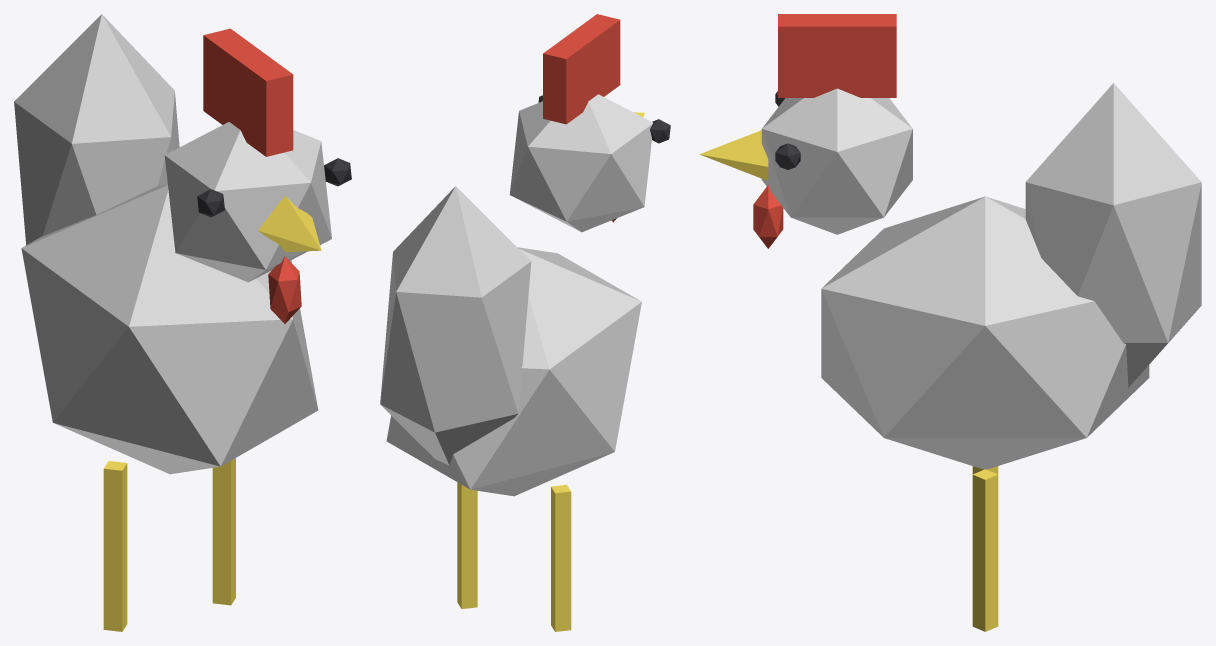
The model's file is niwatori.glb.
3 renders of one model, left to right at view 1: azimuth 30°, elevation 25°; view 2: azimuth 150°, elevation 25°; view 3: azimuth 270°, elevation 25°, orthographic. The views are drawn at different scales.
Parts seen in each view (by area): view 1: niwatori; view 2: niwatori; view 3: niwatori.
Part boxes in pixels (x1=…): niwatori: x1=14, y1=14, x2=351, y2=631; niwatori: x1=380, y1=14, x2=670, y2=631; niwatori: x1=699, y1=14, x2=1201, y2=631.
Bounding box in the file's own units: 0.2585 × 0.65 × 0.5093.
